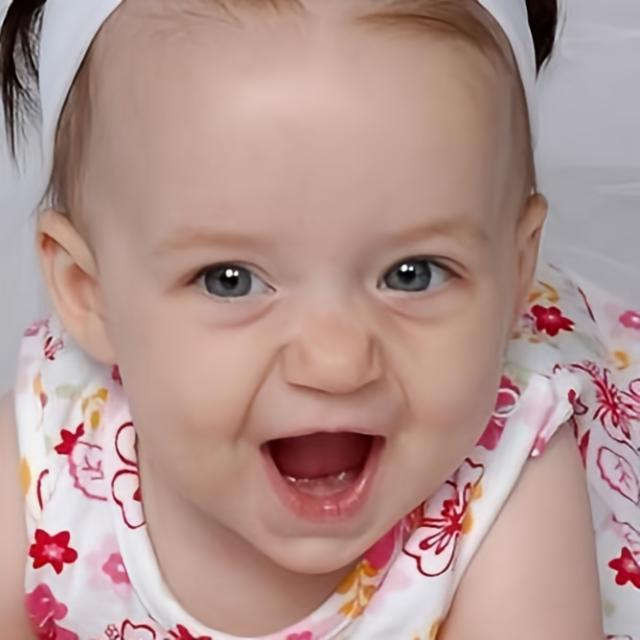surprise: (93, 0, 516, 577)
